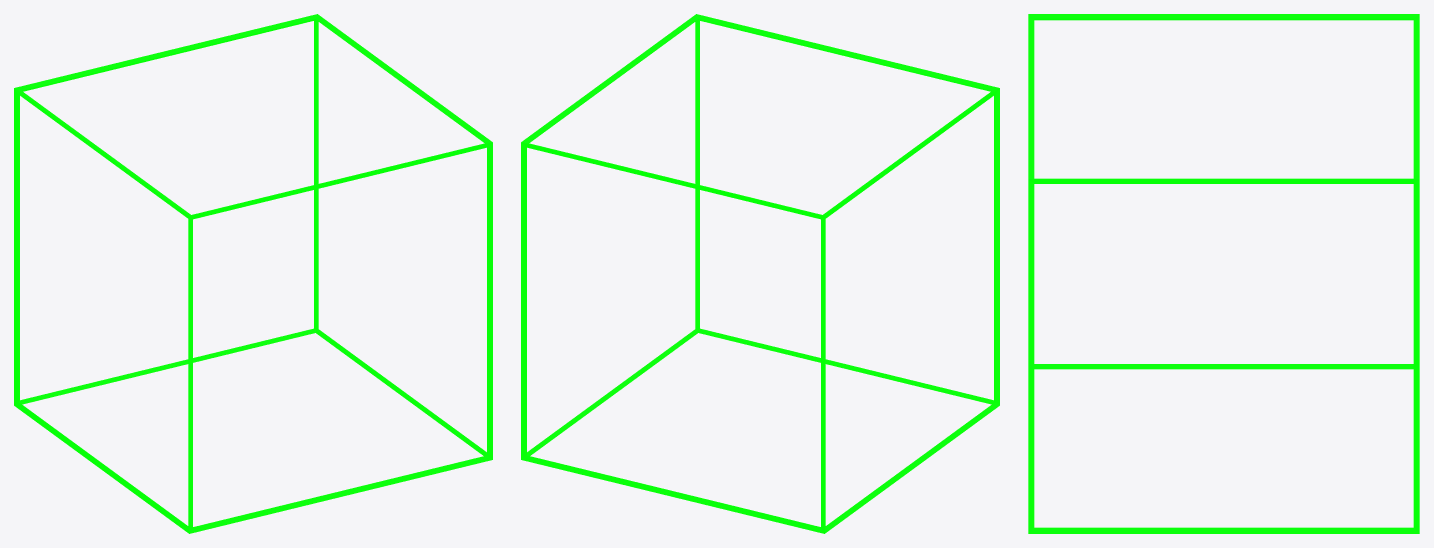
The model's file is hollow-cube 1x1-named-nodes.glb.
3 views of the same model, side by side, from view 1: azimuth 30°, elevation 25°; view 2: azimuth 150°, elevation 25°; view 3: azimuth 270°, elevation 25° (orthographic). The views are drawn at different scales.
Parts seen in each view (by area): view 1: Cube.001; view 2: Cube.001; view 3: Cube.001.
Boxes of the visible parts, x1=… form: Cube.001: x1=14, y1=14, x2=492, y2=533; Cube.001: x1=521, y1=14, x2=999, y2=533; Cube.001: x1=1028, y1=14, x2=1419, y2=533.
Size of the model in its own units: 1.01 by 1.01 by 1.01.
